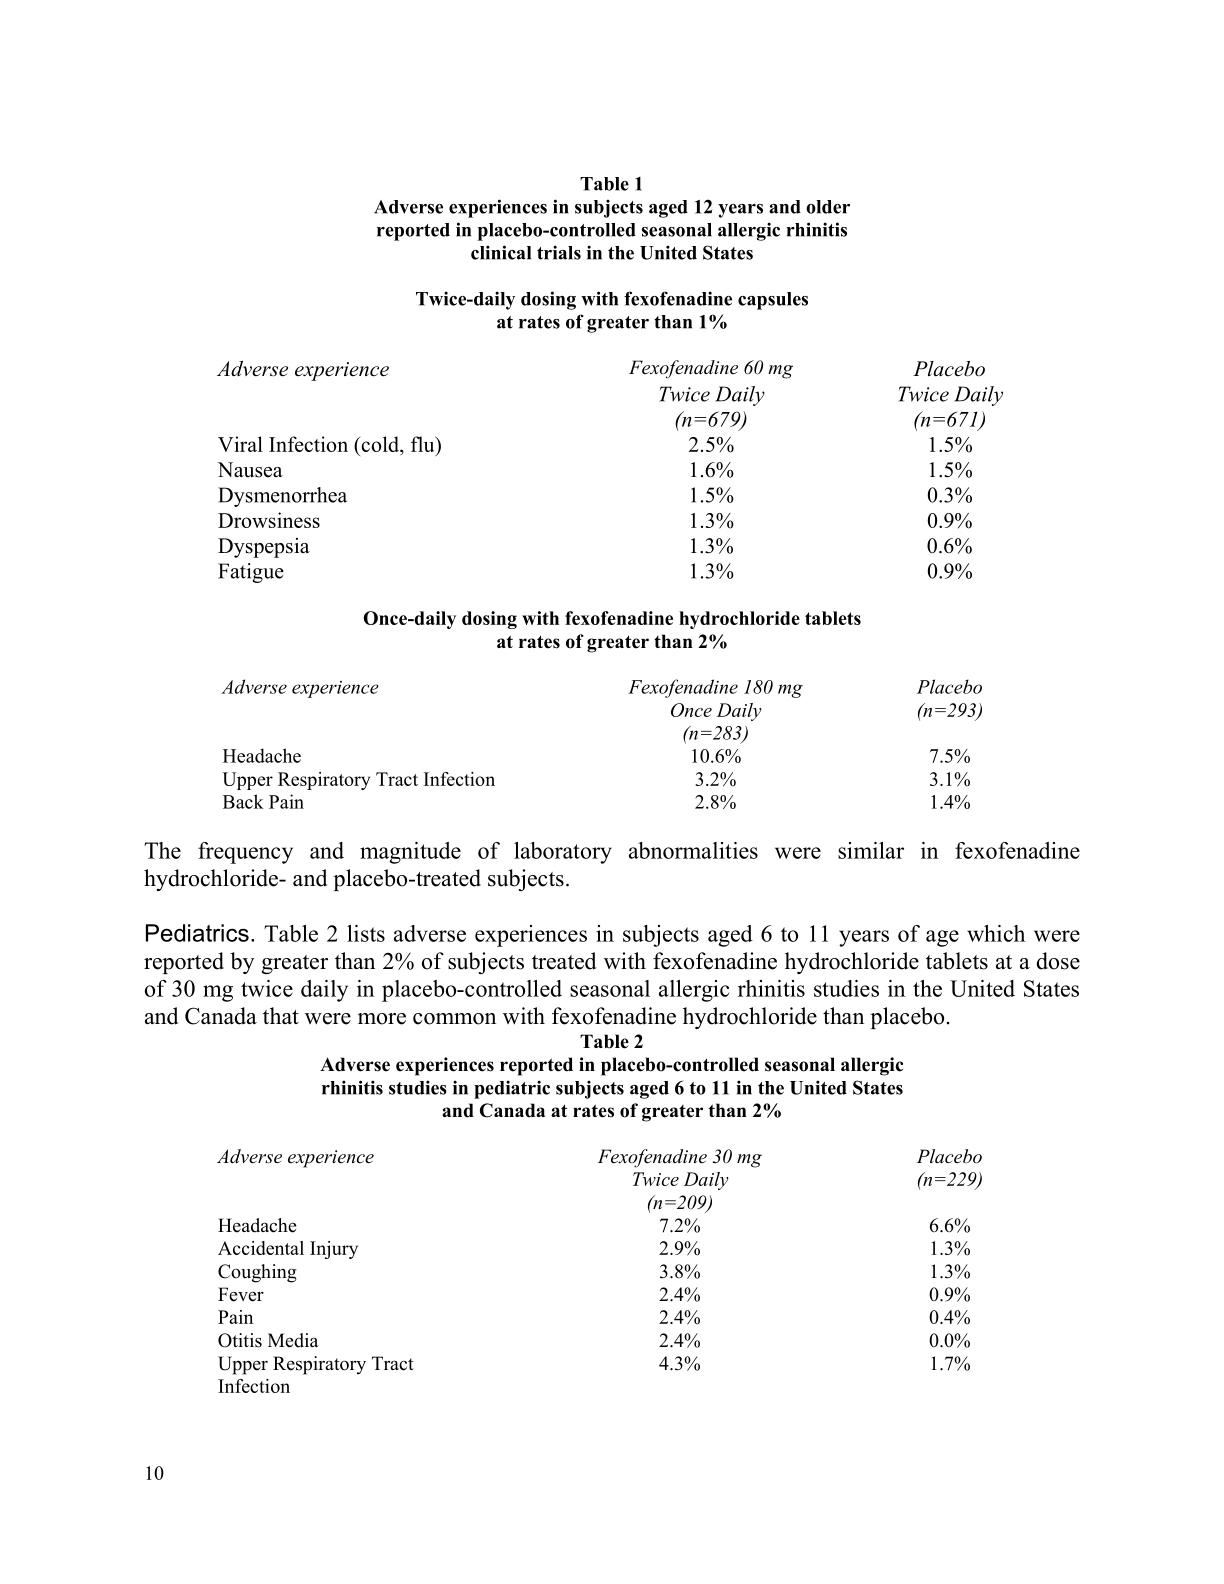nolines: (215, 1144, 985, 1398), (213, 355, 1008, 585), (216, 678, 987, 813)
